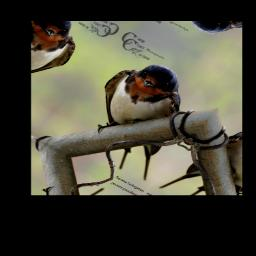Swallow: (60, 50, 220, 182)
